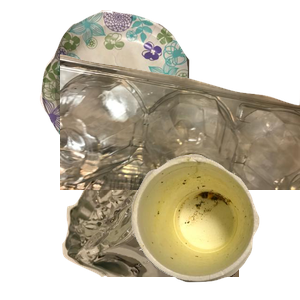glass: (60, 120, 300, 300)
paper: (37, 10, 219, 167)
plastic: (60, 52, 300, 232)
trash: (129, 152, 300, 300)
